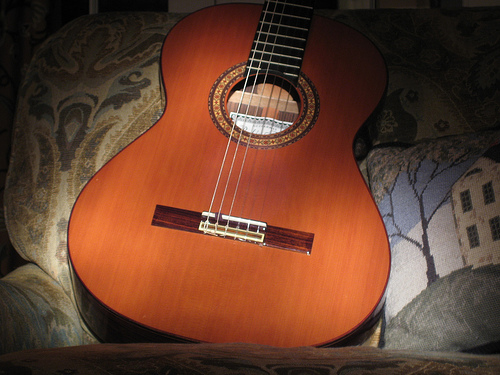guitar: (63, 1, 395, 353)
